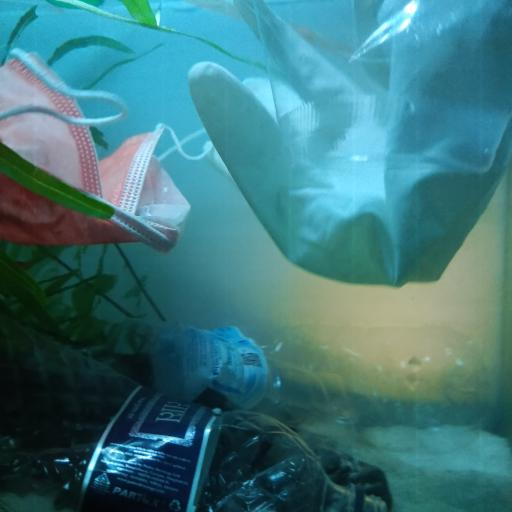glove: (189, 0, 512, 285)
mask: (0, 48, 189, 255)
plastic_bottle: (1, 318, 386, 512), (87, 313, 494, 453)
plastic_cup: (252, 0, 492, 181)
